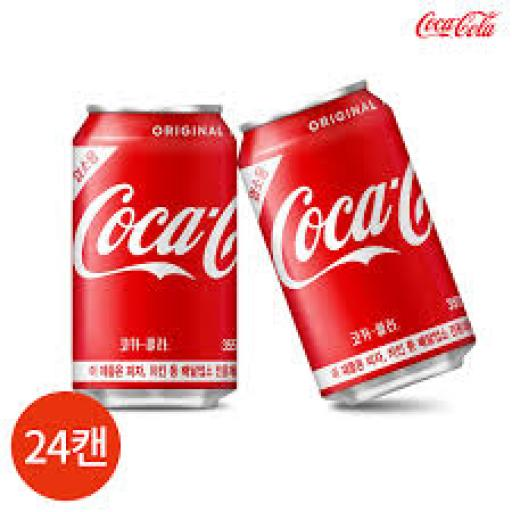Coca: (239, 79, 486, 414), (64, 87, 242, 417)
